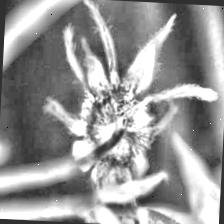Gray Mold: (39, 0, 222, 199)
